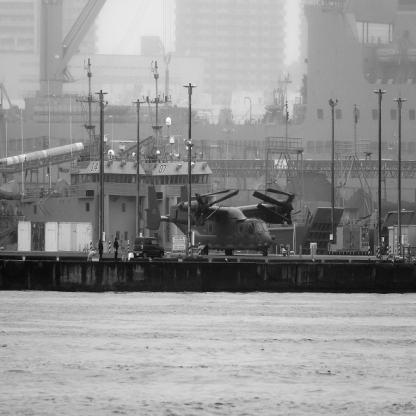V22: (146, 185, 297, 258)
